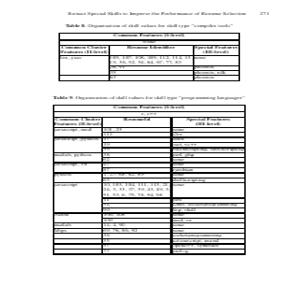table: (51, 103, 247, 256), (57, 32, 240, 84)
text: (57, 7, 248, 29), (49, 93, 247, 102)
